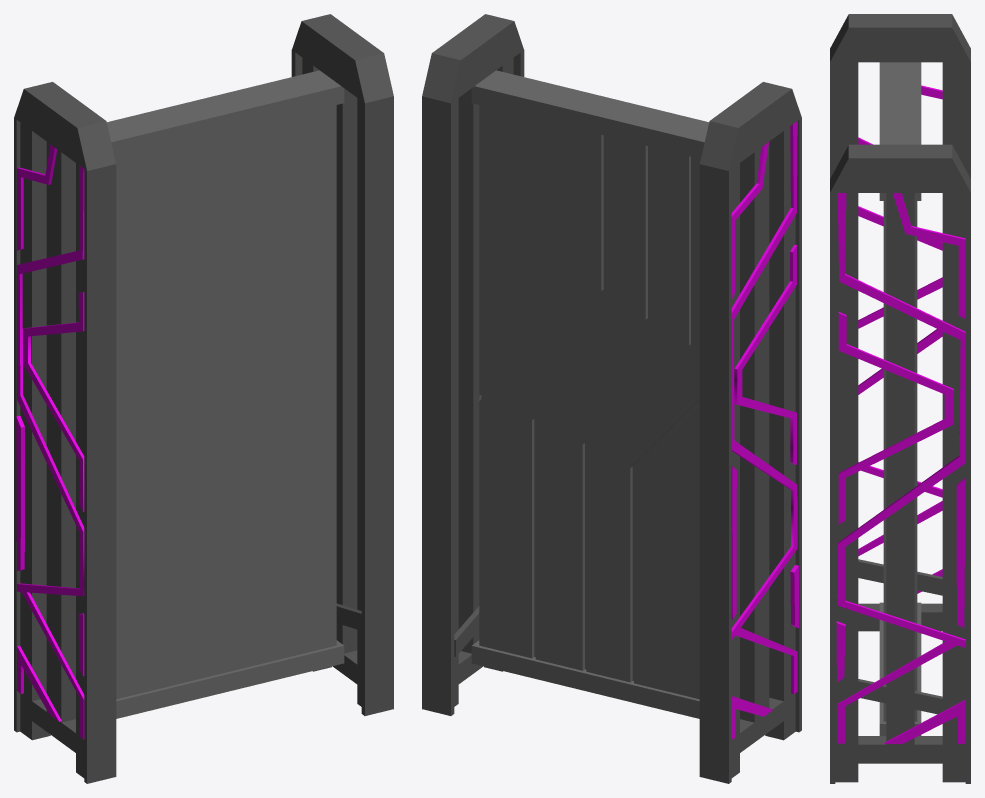
The model's file is Miror.fbx.
The picture shows the model from 3 angles, left to right: view 1: azimuth 30°, elevation 25°; view 2: azimuth 150°, elevation 25°; view 3: azimuth 270°, elevation 25°; orthographic projection. The views are drawn at different scales.
Parts seen in each view (by area): view 1: pCube1, polySurface19; view 2: pCube1, polySurface19; view 3: polySurface19, pCube1.
Boxes of the visible parts, <box> form: pCube1: <box>107,70,344,718</box>; polySurface19: <box>14,14,393,783</box>; pCube1: <box>471,70,708,718</box>; polySurface19: <box>422,14,801,783</box>; polySurface19: <box>830,14,970,783</box>; pCube1: <box>879,62,921,735</box>.
Bounding box in the file's own units: 6.75 × 13.6 × 2.78.
